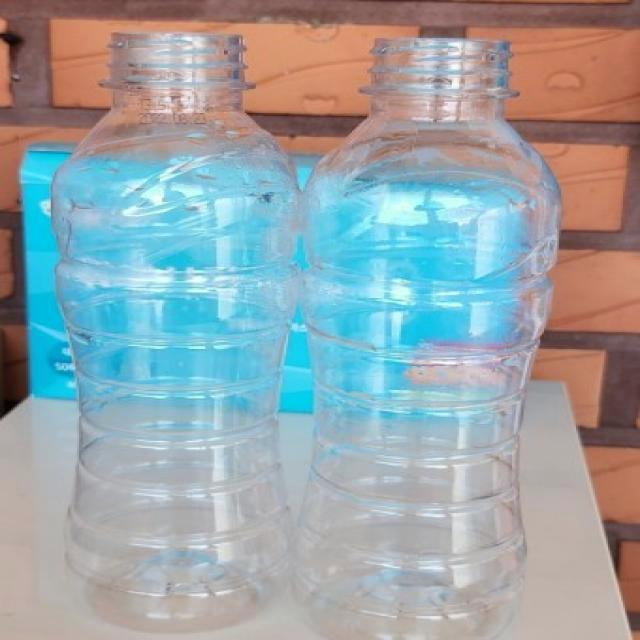bottle: (47, 30, 309, 629), (303, 40, 565, 636)
